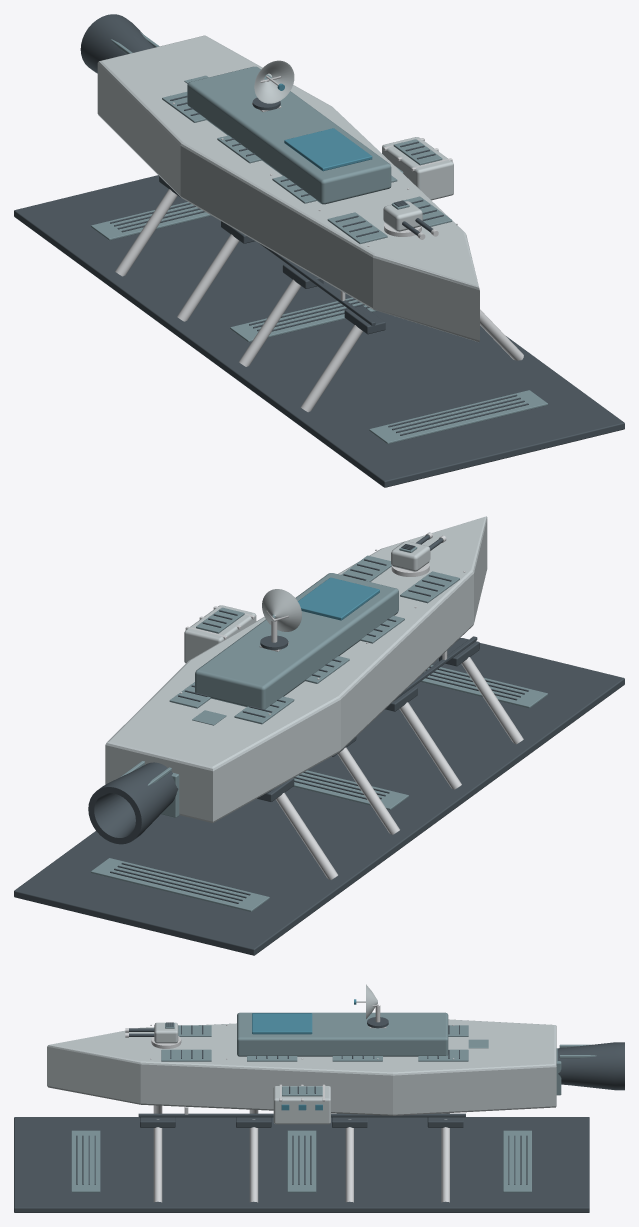
3 renders of one model, top to bottom at view 1: azimuth 30°, elevation 25°; view 2: azimuth 150°, elevation 25°; view 3: azimuth 270°, elevation 25°, orthographic. The views are drawn at different scales.
Parts seen in each view (by area): view 1: 000-dry-dock-cradle/0, 001-cruiser-core/2, 001-cruiser-core/3, 000-dry-dock-cradle/3, 000-dry-dock-cradle/1, 002-large-engine/1, 001-cruiser-core/4, 005-cargo-pod/0, 000-dry-dock-cradle/2, 001-cruiser-core/0, 004-radar-dish/2, 003-twin-turret/1; view 2: 000-dry-dock-cradle/0, 001-cruiser-core/2, 001-cruiser-core/3, 000-dry-dock-cradle/3, 002-large-engine/1, 000-dry-dock-cradle/1, 001-cruiser-core/4, 005-cargo-pod/0, 001-cruiser-core/0, 004-radar-dish/2, 000-dry-dock-cradle/2, 003-twin-turret/1 (+1 smaller); view 3: 000-dry-dock-cradle/0, 001-cruiser-core/2, 001-cruiser-core/3, 000-dry-dock-cradle/3, 000-dry-dock-cradle/1, 002-large-engine/1, 005-cargo-pod/0, 000-dry-dock-cradle/2, 001-cruiser-core/0, 001-cruiser-core/4, 003-twin-turret/1, 005-cargo-pod/2.
Boxes of the visible parts, x1,y1,x2,y2 form: 000-dry-dock-cradle/0: (14, 175, 624, 487); 001-cruiser-core/2: (97, 35, 479, 341); 001-cruiser-core/3: (162, 66, 452, 243); 000-dry-dock-cradle/3: (91, 202, 547, 444); 000-dry-dock-cradle/1: (115, 189, 523, 412); 002-large-engine/1: (80, 14, 154, 73); 001-cruiser-core/4: (284, 128, 372, 171); 005-cargo-pod/0: (382, 137, 453, 200); 000-dry-dock-cradle/2: (159, 176, 385, 334); 001-cruiser-core/0: (170, 95, 443, 325); 004-radar-dish/2: (254, 60, 294, 103); 003-twin-turret/1: (383, 201, 422, 231); 000-dry-dock-cradle/0: (14, 638, 624, 955); 001-cruiser-core/2: (105, 516, 487, 823); 001-cruiser-core/3: (169, 555, 459, 724); 000-dry-dock-cradle/3: (91, 665, 547, 911); 002-large-engine/1: (88, 762, 178, 844); 000-dry-dock-cradle/1: (276, 657, 523, 879); 001-cruiser-core/4: (298, 577, 379, 620); 005-cargo-pod/0: (184, 605, 256, 663); 001-cruiser-core/0: (178, 559, 477, 794); 004-radar-dish/2: (262, 589, 301, 631); 000-dry-dock-cradle/2: (257, 638, 479, 801); 003-twin-turret/1: (391, 541, 430, 571); 000-dry-dock-cradle/0: (14, 1117, 589, 1212); 001-cruiser-core/2: (47, 1019, 556, 1115); 001-cruiser-core/3: (161, 1012, 468, 1061); 000-dry-dock-cradle/3: (71, 1130, 531, 1192); 000-dry-dock-cradle/1: (153, 1105, 449, 1202); 002-large-engine/1: (557, 1042, 624, 1090); 005-cargo-pod/0: (273, 1086, 330, 1124); 000-dry-dock-cradle/2: (140, 1117, 463, 1127); 001-cruiser-core/0: (138, 1025, 465, 1117); 001-cruiser-core/4: (252, 1013, 312, 1034); 003-twin-turret/1: (154, 1022, 178, 1043); 005-cargo-pod/2: (282, 1086, 322, 1096).
Size of the model in its own units: 9 by 8.31 by 25.47.
